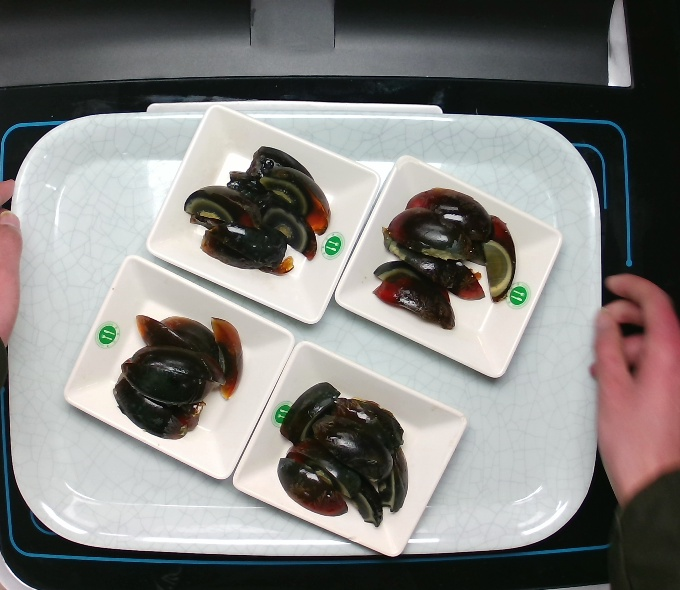wcq-PiDan: (360, 182, 522, 340), (94, 296, 250, 447), (268, 375, 415, 530), (181, 139, 337, 284)
